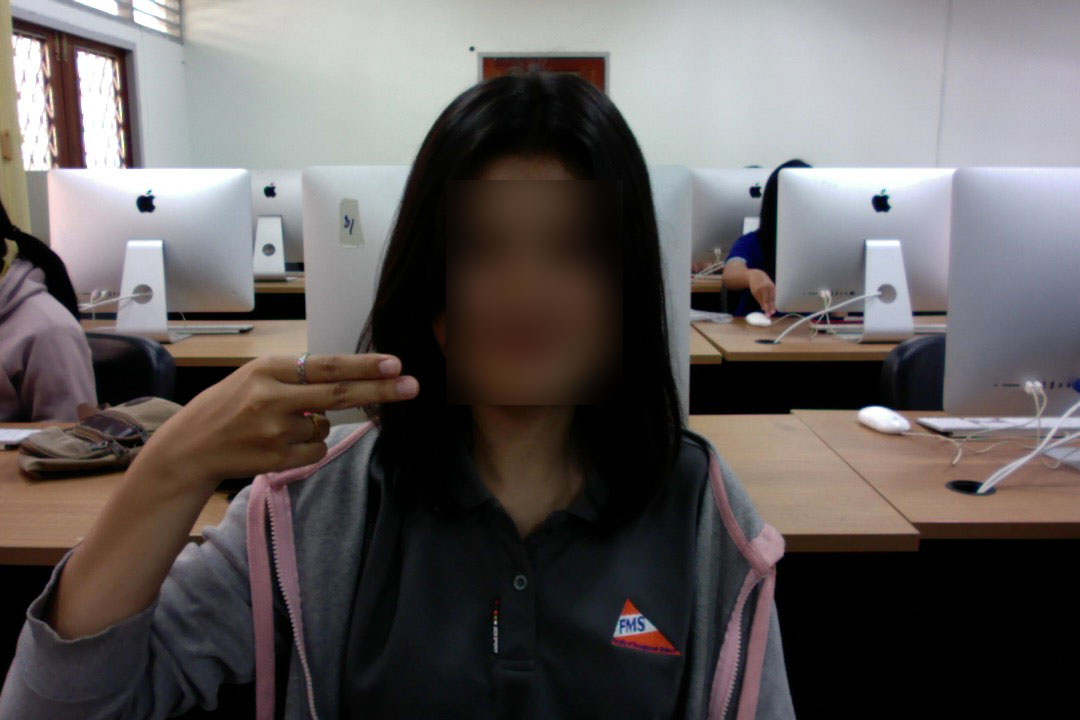hor: (127, 347, 422, 490)
